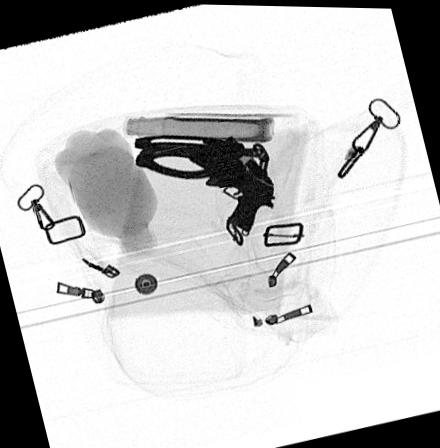Gun: (185, 142, 275, 230)
HandCuffs: (132, 131, 268, 180)
